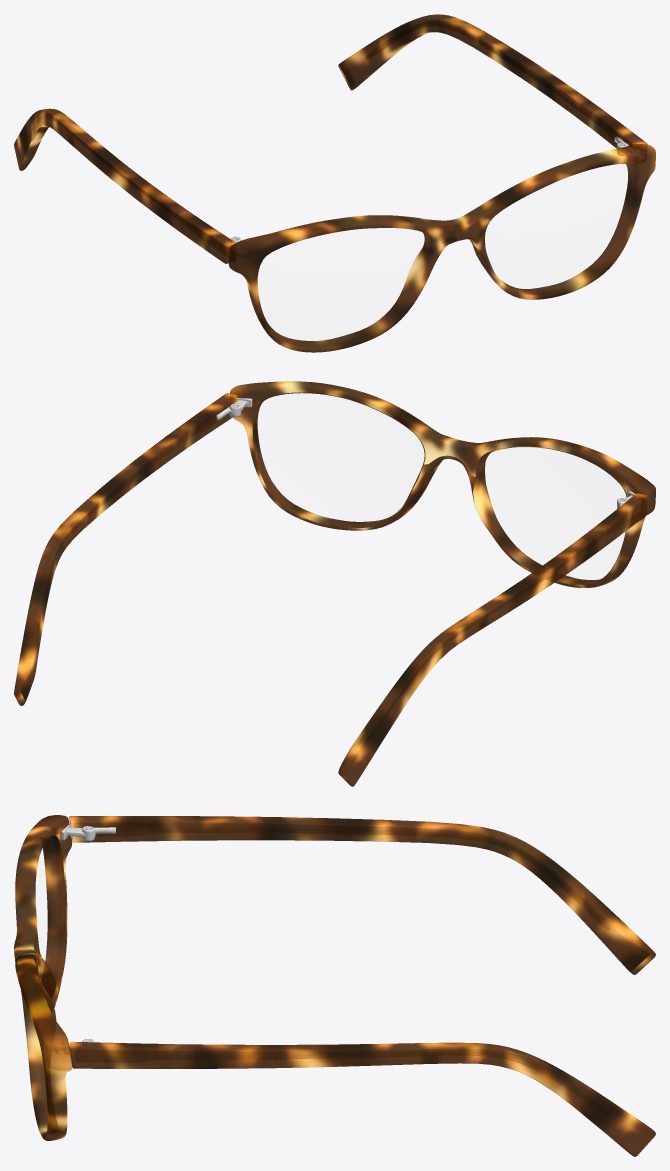
File: Daisy Eyeglasses in Oak Barrel (1).glb
The picture shows the model from 3 angles, top to bottom: view 1: azimuth 30°, elevation 25°; view 2: azimuth 150°, elevation 25°; view 3: azimuth 270°, elevation 25°; orthographic projection. The views are drawn at different scales.
Visible parts, largest first — view 1: face_front, left_temple, right_temple; view 2: face_front, right_temple, left_temple; view 3: right_temple, left_temple, face_front.
Boxes of the visible parts, x1,y1,x2,y2 form: face_front: (228,144,655,352); left_temple: (338,14,647,148); right_temple: (14,108,235,263); face_front: (230,381,655,587); right_temple: (338,493,647,786); left_temple: (14,393,237,705); right_temple: (69,816,655,974); left_temple: (69,1041,655,1156); face_front: (14,815,72,1140).
Bounding box in the file's own units: 0.1284 × 0.0385 × 0.1484.
3 materials, 1 textured.
